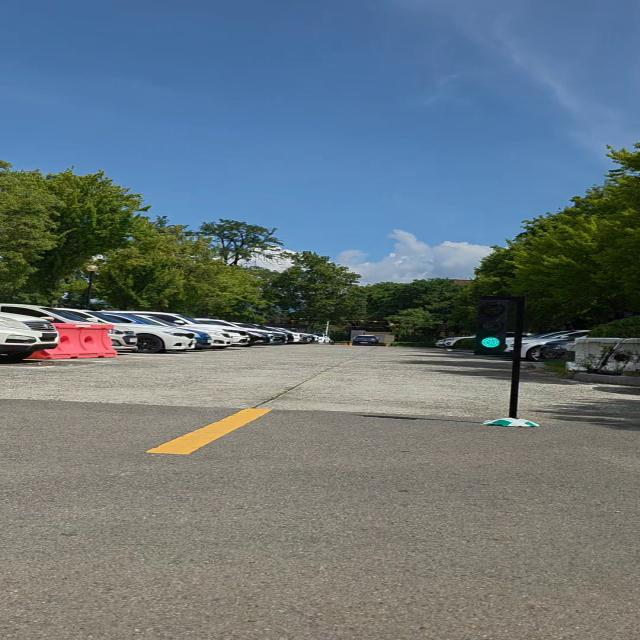green: (468, 296, 510, 356)
